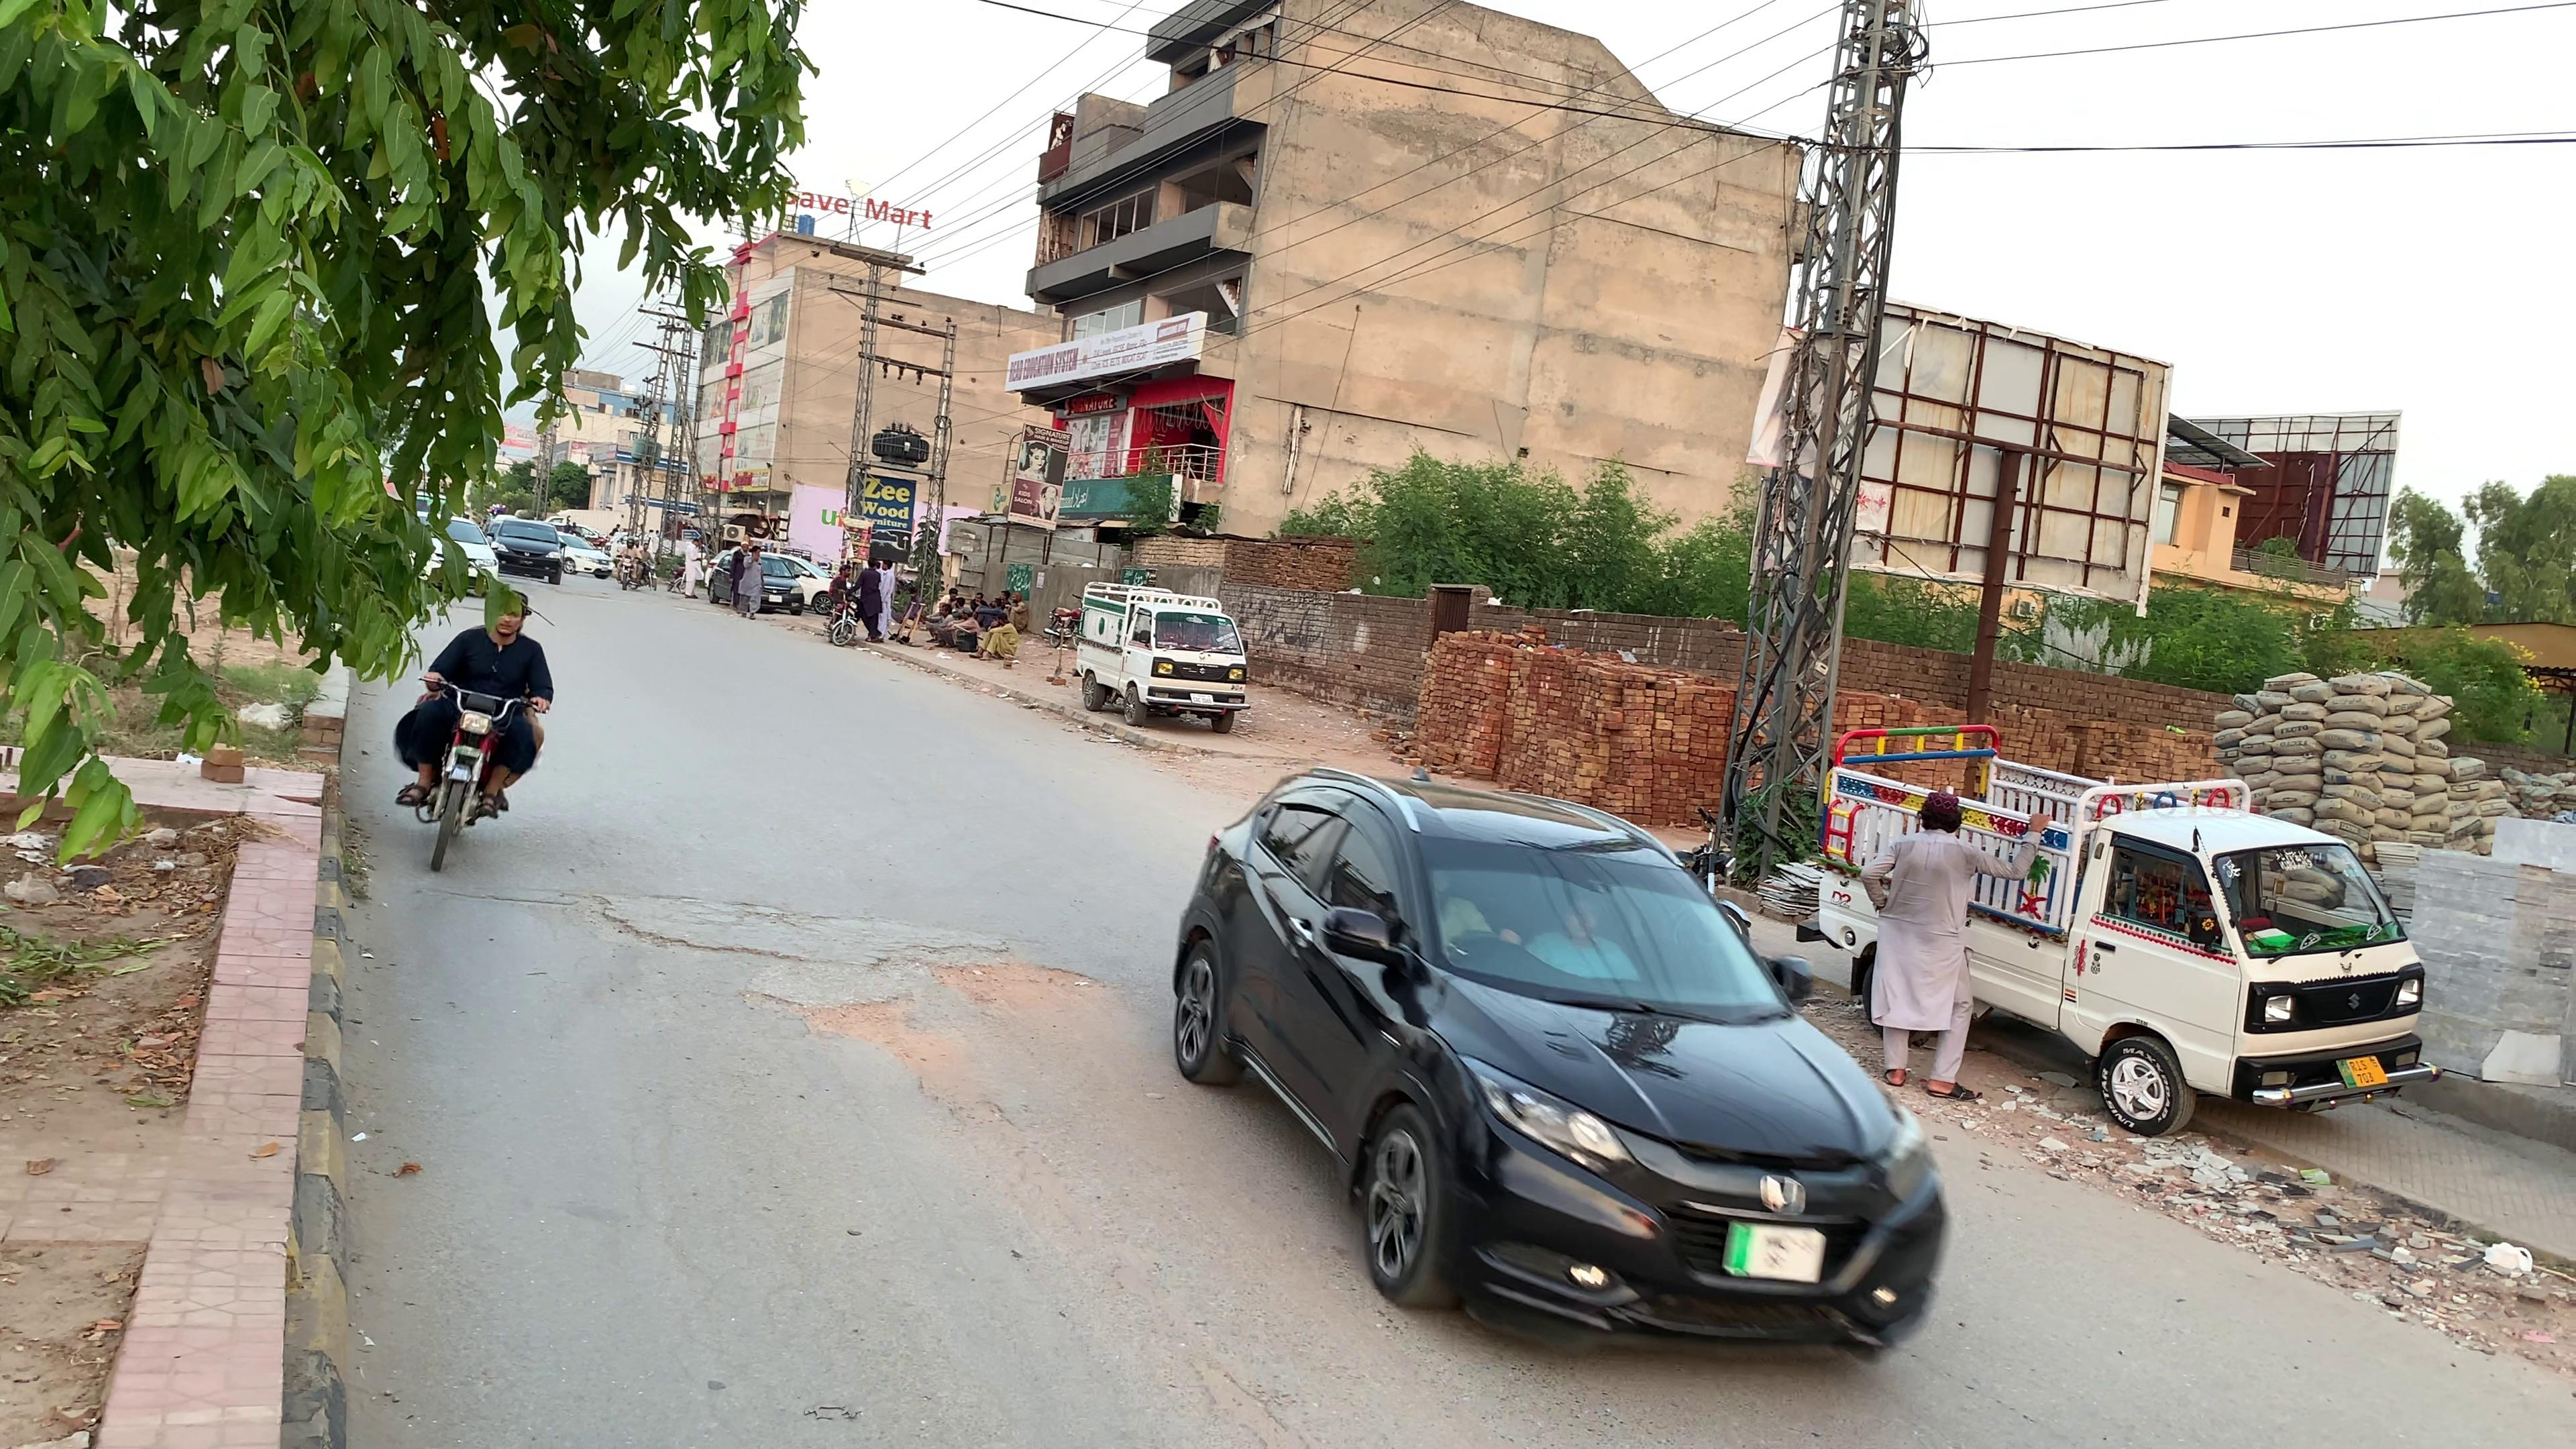windshield: (1396, 821, 1805, 1016)
